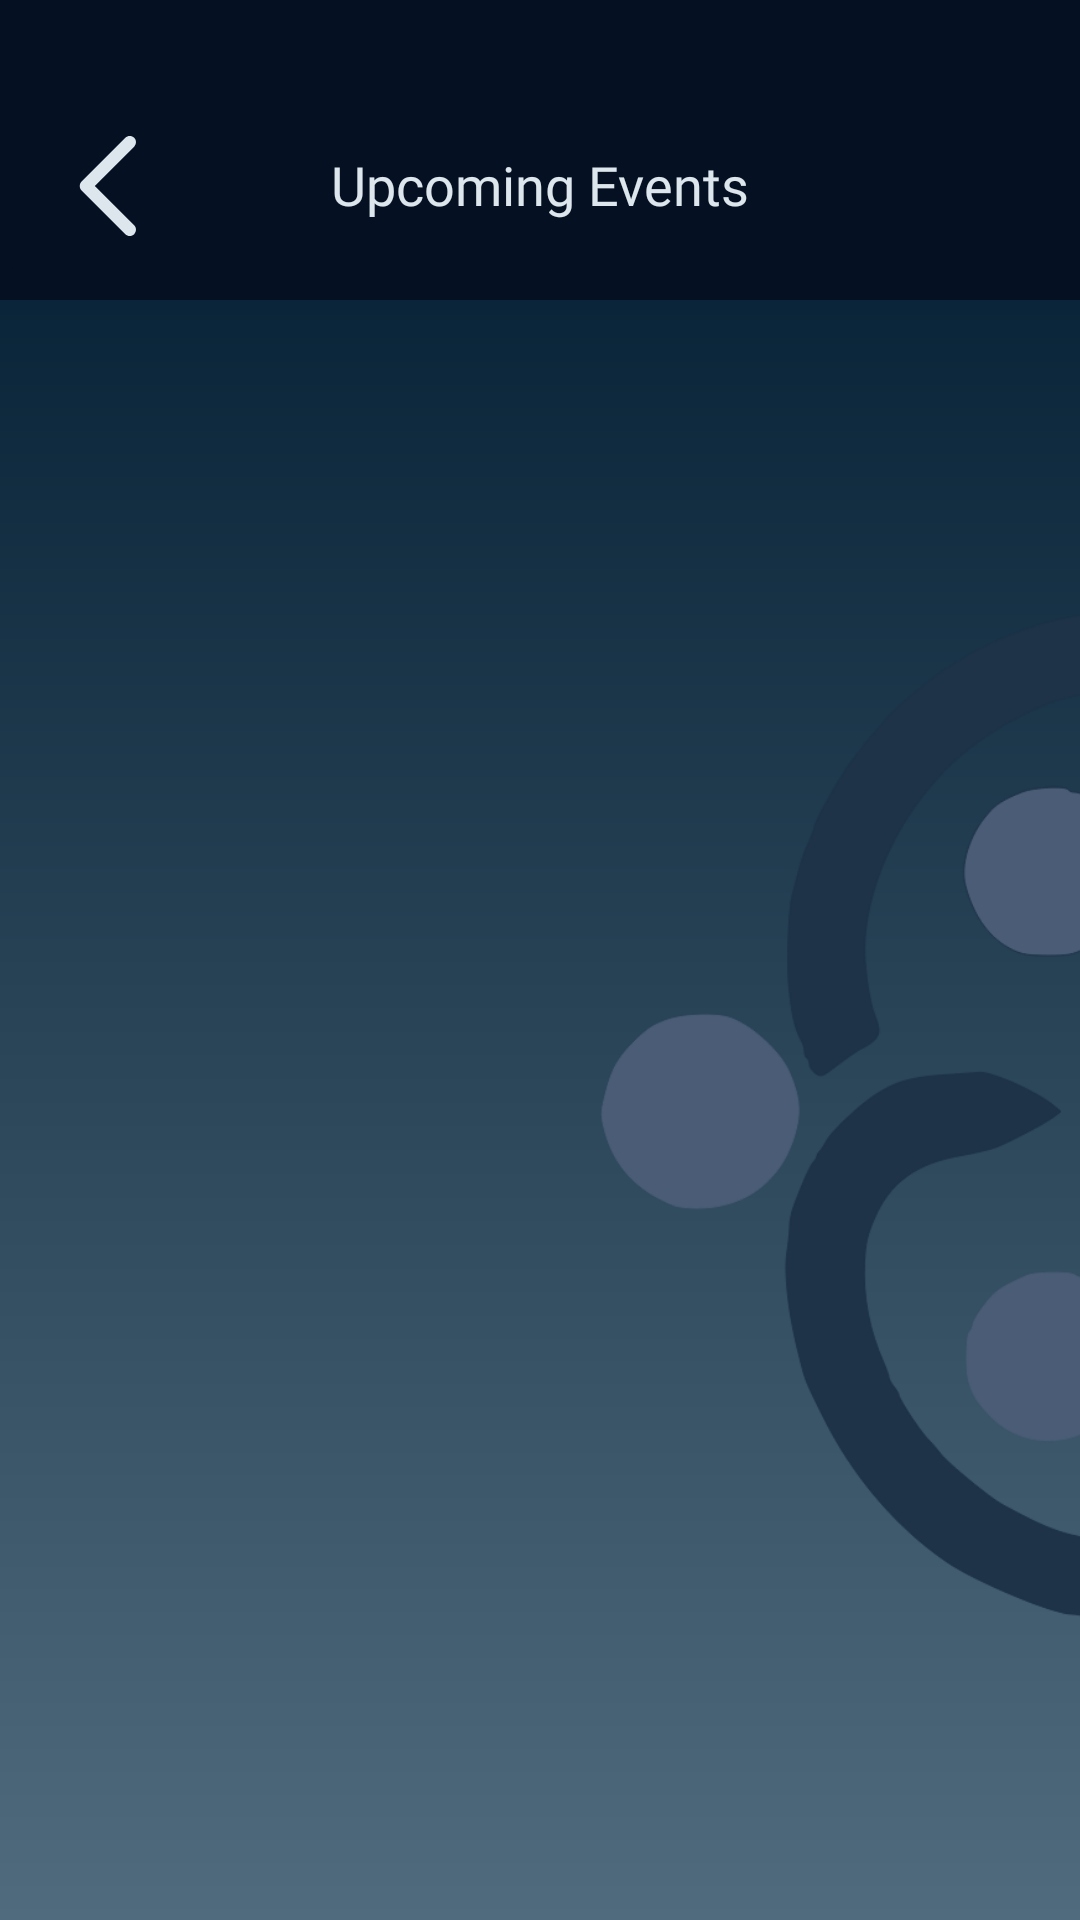

Where to tap for icons on this 1080w x 1920h app screen, as (x=x, y=y):
Back: (x=107, y=186)
